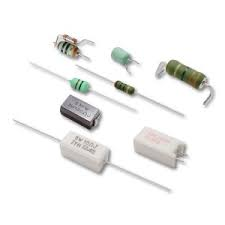resistor: (65, 75, 97, 95)
